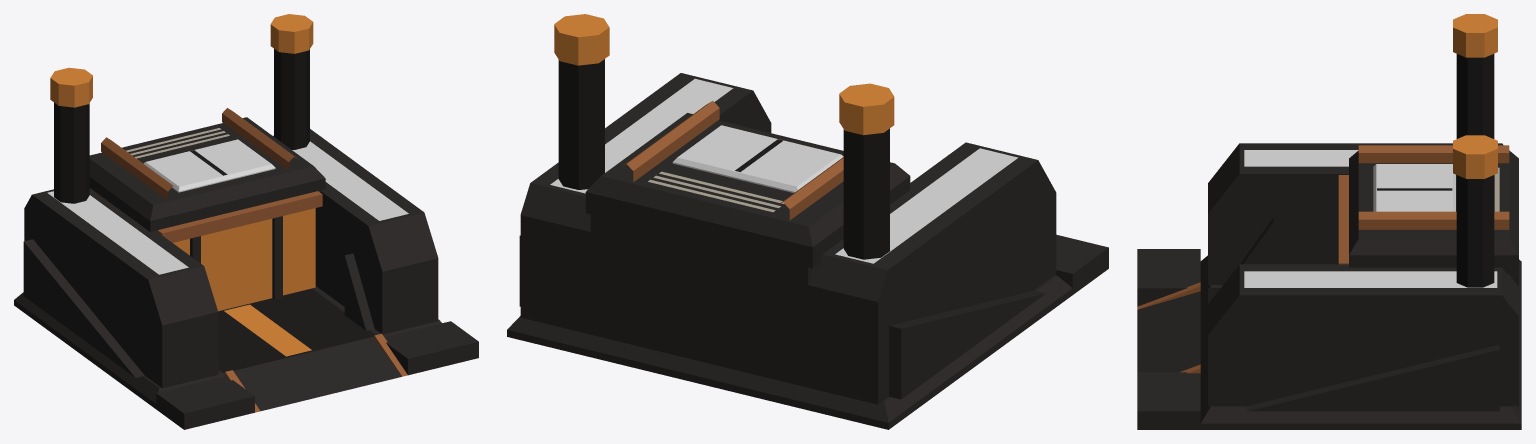
File: str_t3_fac_land.93acd58f.glb
The picture shows the model from 3 angles, left to right: view 1: azimuth 30°, elevation 25°; view 2: azimuth 150°, elevation 25°; view 3: azimuth 270°, elevation 25°; orthographic projection. The views are drawn at different scales.
Parts seen in each view (by area): view 1: lod0; view 2: lod0; view 3: lod0.
Boxes of the visible parts, x1,y1,x2,y2 form: lod0: (14, 14, 478, 429); lod0: (507, 14, 1108, 429); lod0: (1137, 14, 1521, 429).
Size of what is drawn, in the model's own units: 4.94 by 3.75 by 4.94.
